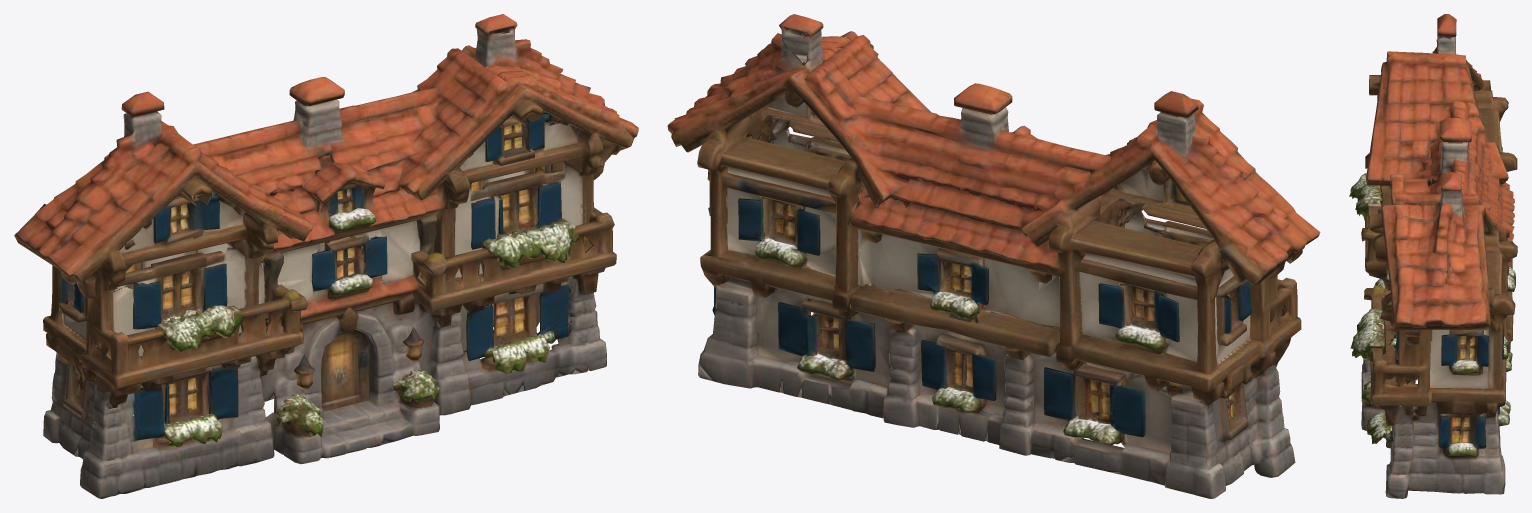
The picture shows the model from 3 angles, left to right: view 1: azimuth 30°, elevation 25°; view 2: azimuth 150°, elevation 25°; view 3: azimuth 270°, elevation 25°; orthographic projection. The views are drawn at different scales.
Parts seen in each view (by area): view 1: alpine__skyscraper_2__native_mobile; view 2: alpine__skyscraper_2__native_mobile; view 3: alpine__skyscraper_2__native_mobile.
Part boxes in pixels (left/top/right/bottom): alpine__skyscraper_2__native_mobile: left=14, top=14, right=638, bottom=498; alpine__skyscraper_2__native_mobile: left=667, top=14, right=1320, bottom=498; alpine__skyscraper_2__native_mobile: left=1349, top=14, right=1517, bottom=498.
Bounding box in the file's own units: 1 × 0.595 × 0.2928.
1 material, 1 textured.
